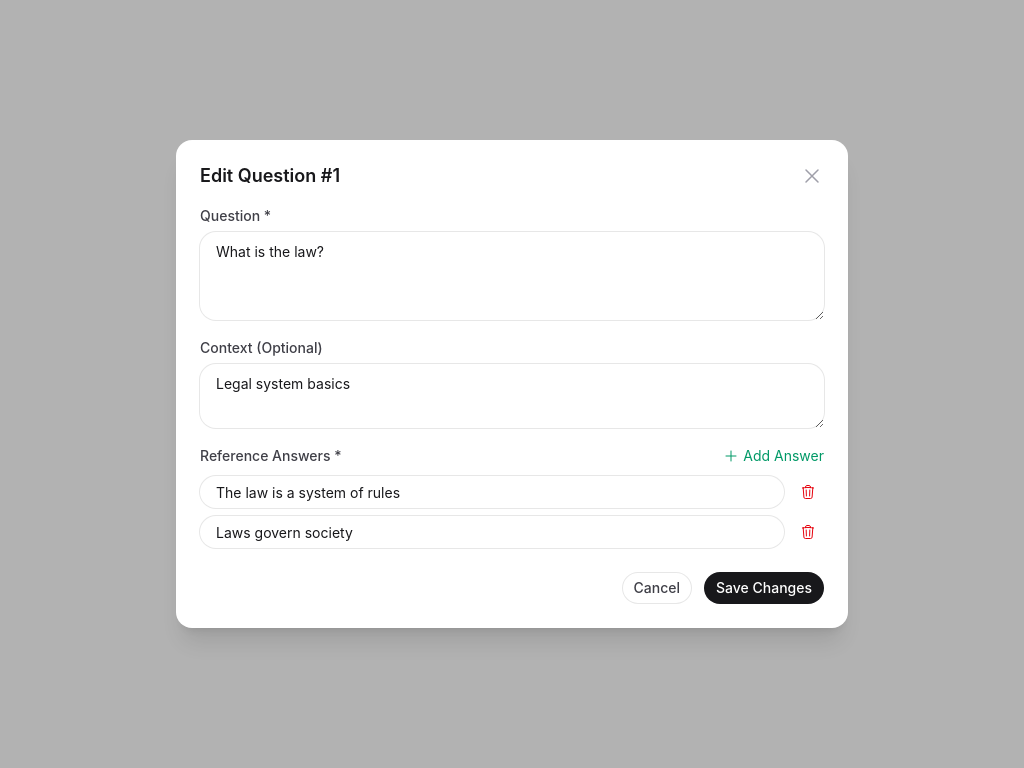
Test case: QuestionEditModal › Validation › shows error when question is empty
Step 1. Clear the text box with test id "question-input" → (512, 276), box x1=200 y1=232 x2=824 y2=320
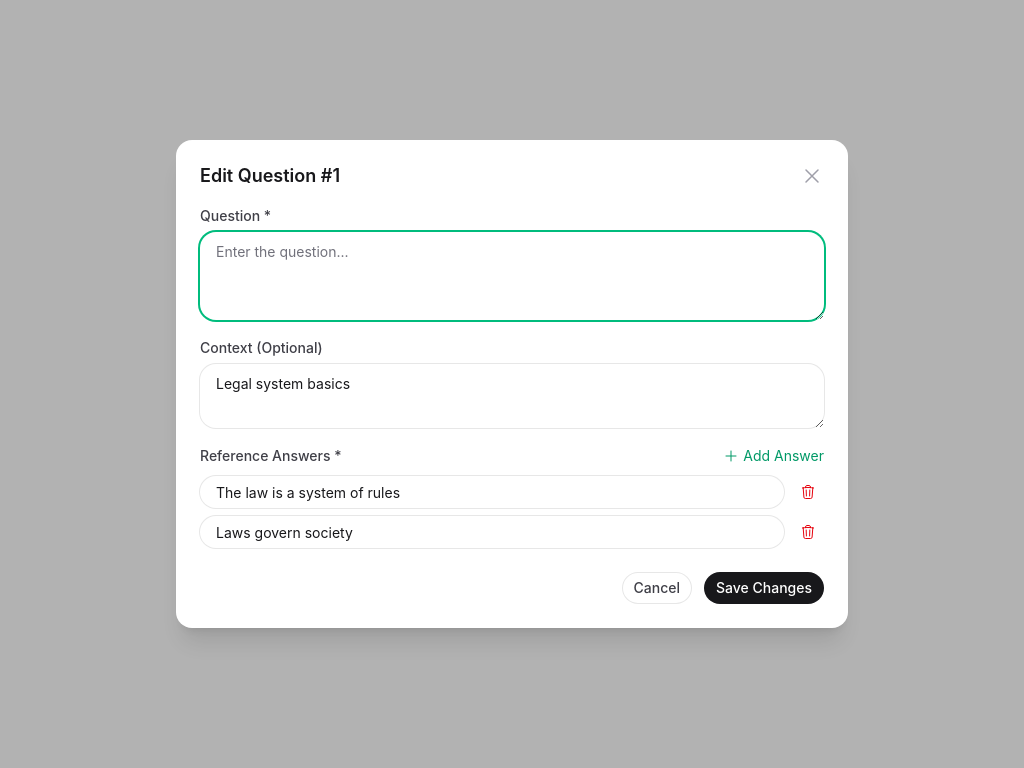
Step 2. Click the button with test id "save-question-button" → click(764, 588), box x1=704 y1=572 x2=824 y2=604
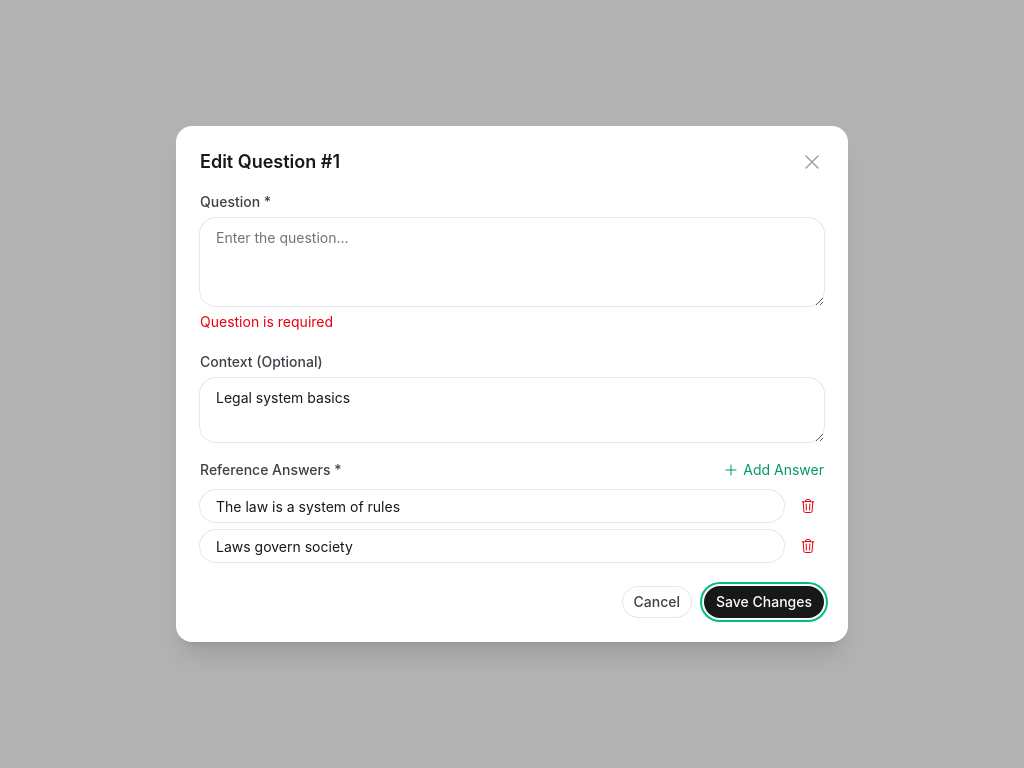
Expected: the text "Question is required" is shown, x1=200 y1=313 x2=333 y2=330
